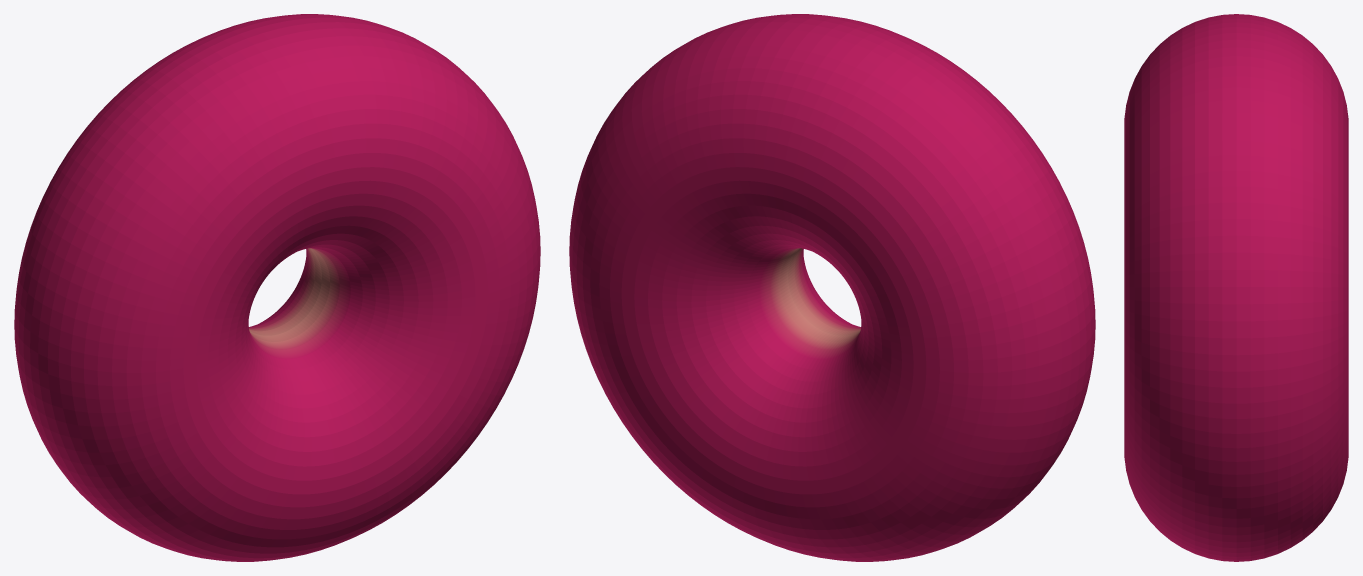
3 renders of one model, left to right at view 1: azimuth 30°, elevation 25°; view 2: azimuth 150°, elevation 25°; view 3: azimuth 270°, elevation 25°, orthographic. The views are drawn at different scales.
Parts seen in each view (by area): view 1: world; view 2: world; view 3: world.
Boxes of the visible parts, bbox=[...] form: world: bbox=[14, 14, 540, 561]; world: bbox=[569, 14, 1095, 561]; world: bbox=[1124, 14, 1348, 561].
Size of the model in its own units: 23.73 by 23.73 by 9.71.
